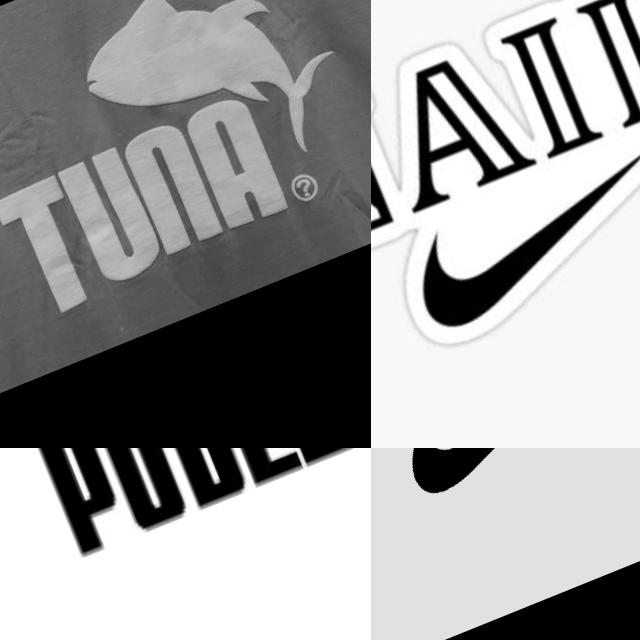NIKE_fake: (371, 0, 640, 411)
NIKE_original: (371, 448, 640, 540)
PUMA_fake: (0, 0, 371, 363), (0, 448, 371, 589)
